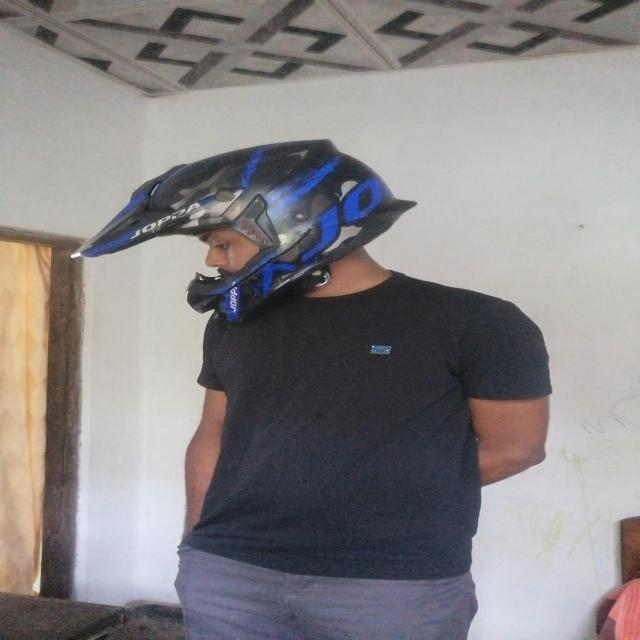Helmet_Wearer: (45, 133, 405, 334)
Person: (157, 121, 546, 640)
